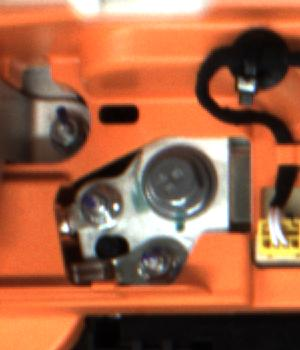nut_b: (139, 145, 218, 219)
